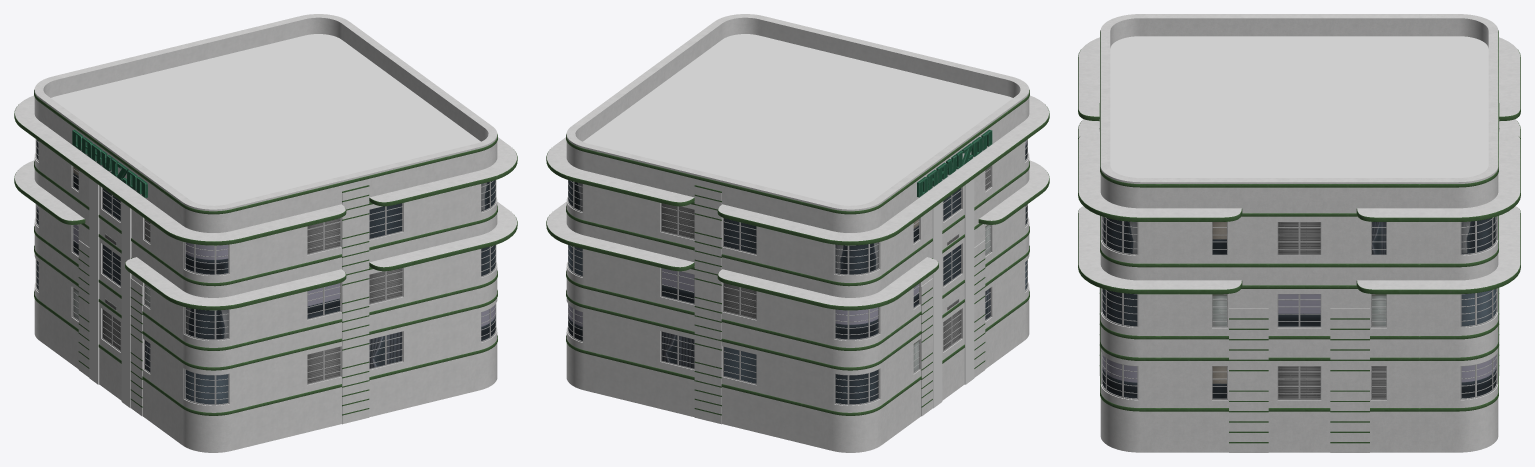
The model's file is MB_Darvizon_Hotel.fbx.
3 renders of one model, left to right at view 1: azimuth 30°, elevation 25°; view 2: azimuth 150°, elevation 25°; view 3: azimuth 270°, elevation 25°, orthographic. The views are drawn at different scales.
Parts seen in each view (by area): view 1: MB_Darvizon_Hotel_LOD0; view 2: MB_Darvizon_Hotel_LOD0; view 3: MB_Darvizon_Hotel_LOD0.
Part boxes in pixels (x1,y1,x2,y2): MB_Darvizon_Hotel_LOD0: (14, 14, 517, 452); MB_Darvizon_Hotel_LOD0: (546, 14, 1049, 452); MB_Darvizon_Hotel_LOD0: (1078, 14, 1520, 452).
Size of what is drawn, in the model's own units: 2226 by 1500 by 2226.
